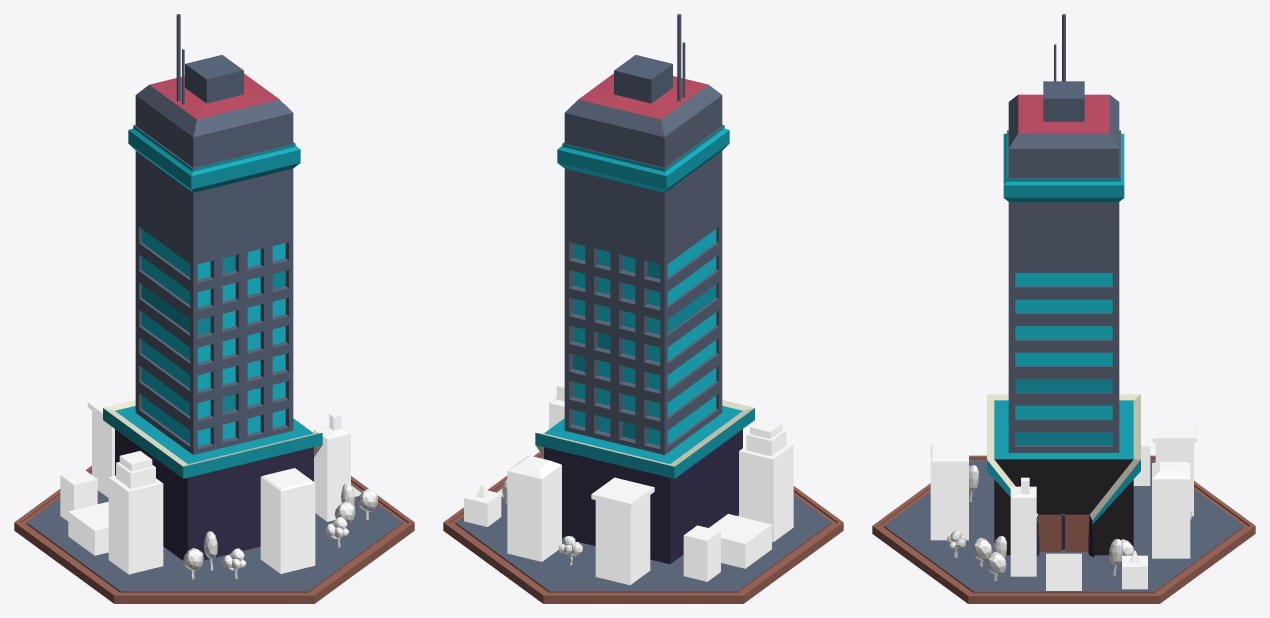
Rendered from Hexagon_SkyScraper.glb.
The picture shows the model from 3 angles, left to right: view 1: azimuth 30°, elevation 25°; view 2: azimuth 150°, elevation 25°; view 3: azimuth 270°, elevation 25°; orthographic projection. The views are drawn at different scales.
Visible parts, largest first — view 1: Cube, Cube.005, Circle; view 2: Cube, Cube.005, Circle; view 3: Cube, Circle, Cube.005, Plane, Cube.003, Cube.001.
Boxes of the visible parts, box(x1,y1,x2,y2) form: Cube: box(103, 14, 322, 560); Cube.005: box(60, 392, 350, 574); Circle: box(14, 465, 414, 603); Cube: box(535, 14, 754, 564); Cube.005: box(464, 382, 793, 584); Circle: box(443, 452, 843, 603); Cube: box(987, 14, 1140, 556); Circle: box(872, 455, 1255, 603); Cube.005: box(930, 379, 1196, 589); Plane: box(1046, 553, 1081, 590); Cube.003: box(1065, 514, 1089, 551); Cube.001: box(1038, 514, 1061, 551).
Bounding box in the file's own units: 30.17 × 50.36 × 34.84.
Materials: 3 (1 with a texture image).
